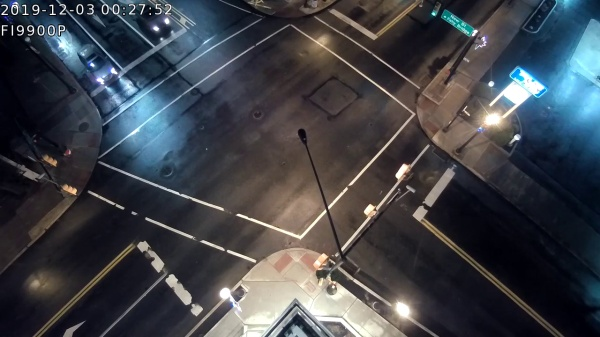car: (75, 41, 117, 86), (126, 5, 172, 36)
